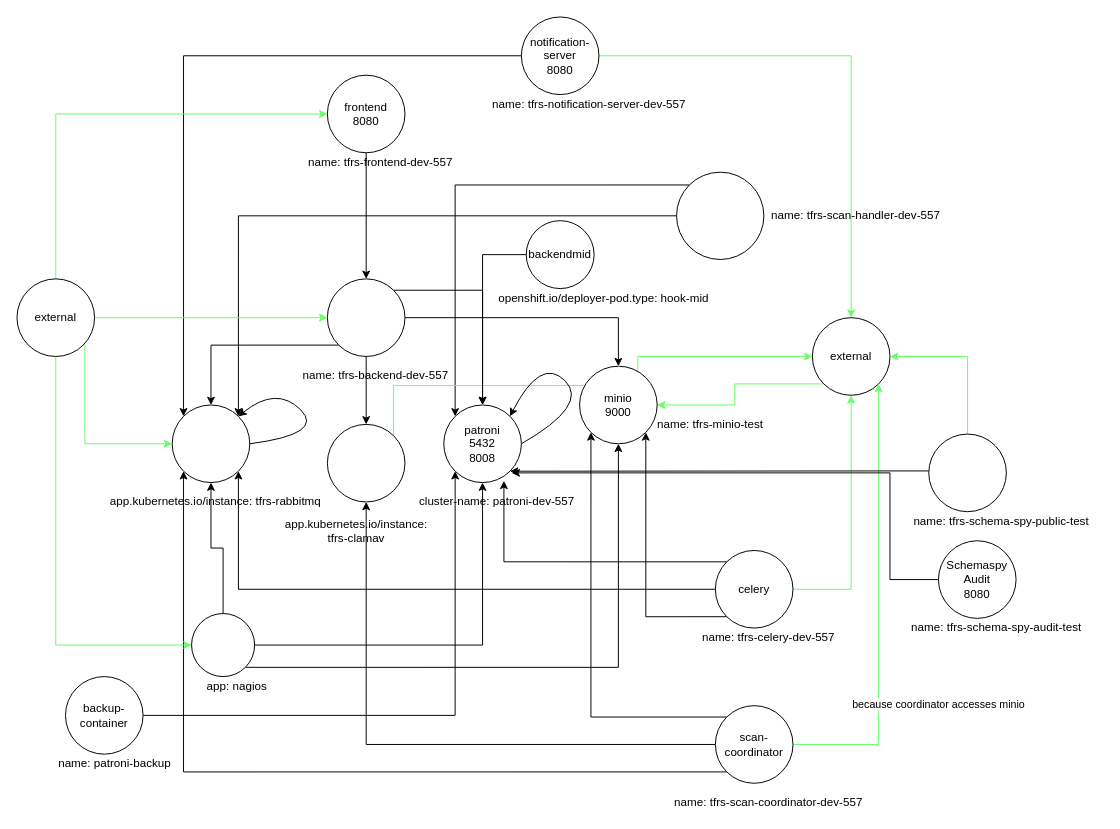
This 1120x829 diagram has some shape labels left out. Here are the shapes that lost their labels. From the top down, the centre of each, then its label:
At (720,215): "scan-handler".
At (365,317): "backend 8080".
At (210,443): "tfrs- rabbitmq 5672 15672".
At (365,462): "tfrs- clamav 3310".
At (967,472): "Schemaspy Public 8080".
At (223,645): "nagios".
